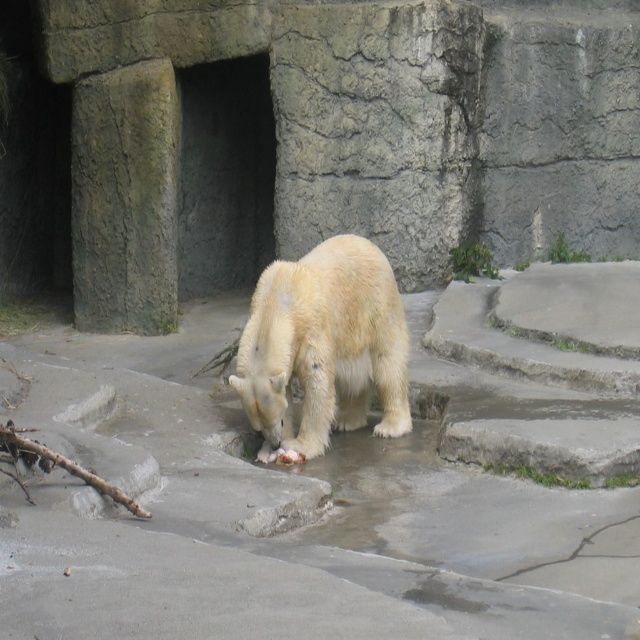Polar bear: (232, 234, 408, 461)
